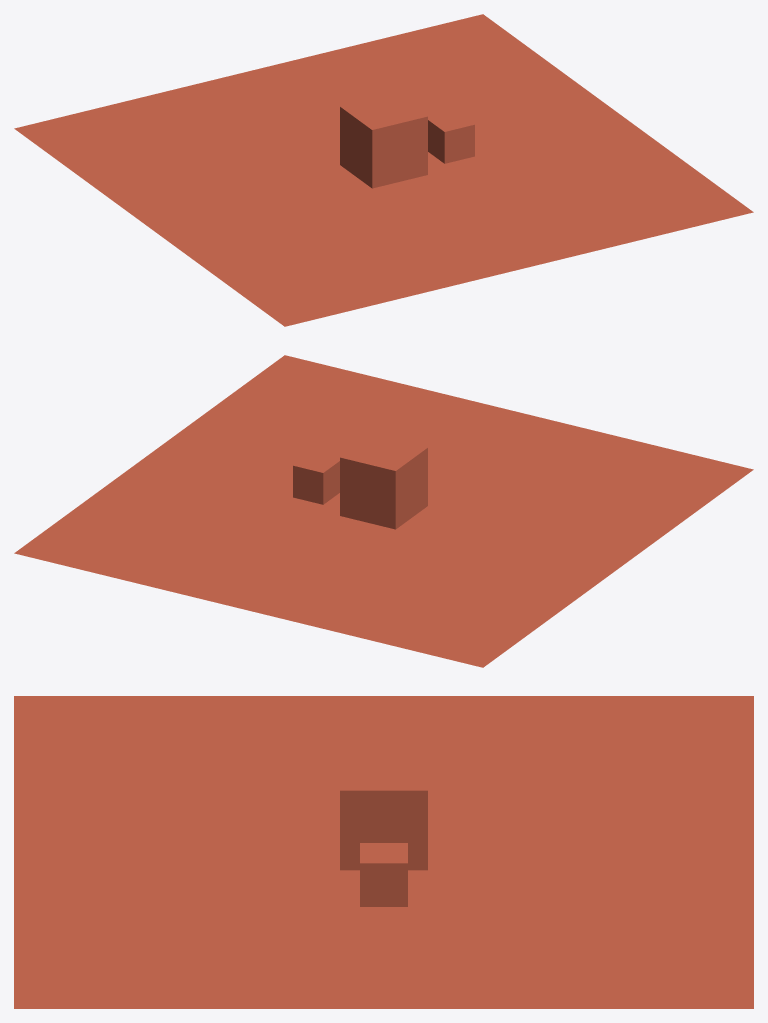
3 views of the same model, one above another, from view 1: azimuth 30°, elevation 25°; view 2: azimuth 150°, elevation 25°; view 3: azimuth 270°, elevation 25° (orthographic). The views are drawn at different scales.
Size of the model in its own units: 1679 by 202 by 1679.
